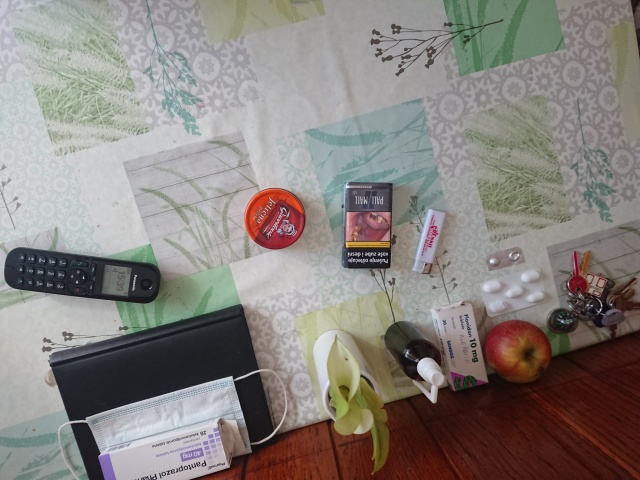Gavrilovic Pork Liver Pate 100g: (242, 185, 308, 252)
